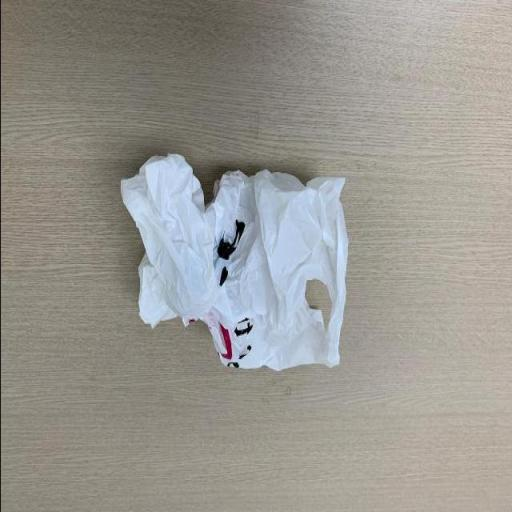plastic-bag: (115, 149, 349, 373)
